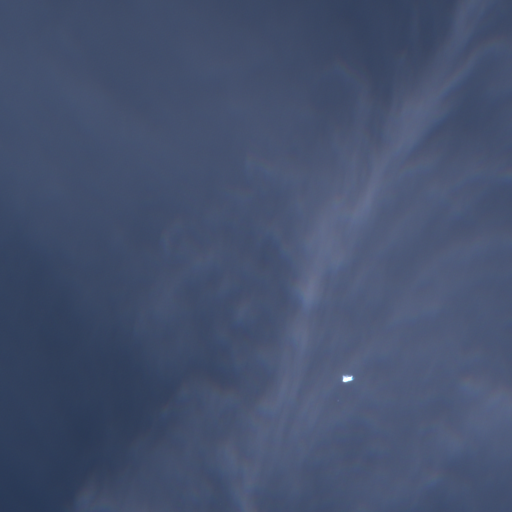Iceberg: (342, 375, 353, 381)
